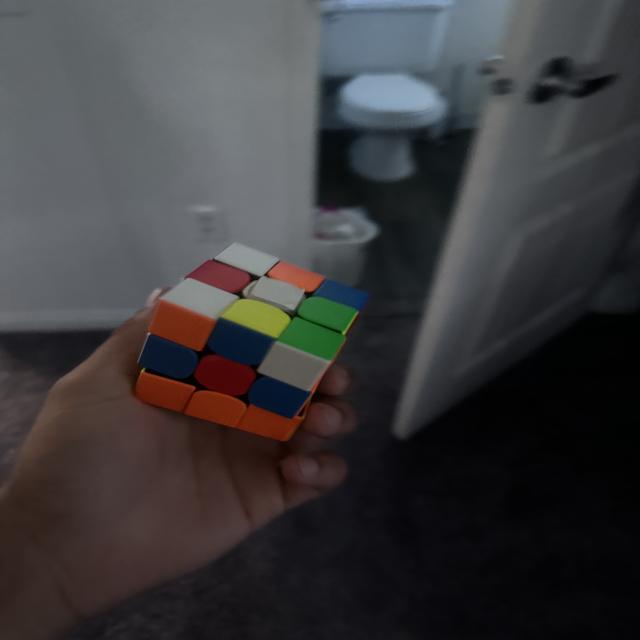sticker: (257, 339, 332, 392), (147, 299, 216, 353), (158, 276, 236, 323), (275, 316, 348, 364), (218, 298, 291, 346), (209, 318, 276, 366), (136, 334, 199, 380), (192, 353, 256, 397), (248, 375, 312, 419), (295, 294, 362, 336), (235, 399, 300, 442), (133, 370, 194, 414), (212, 241, 281, 279), (244, 275, 306, 317), (184, 389, 246, 429), (184, 259, 252, 294), (309, 278, 371, 316), (265, 259, 326, 295)
